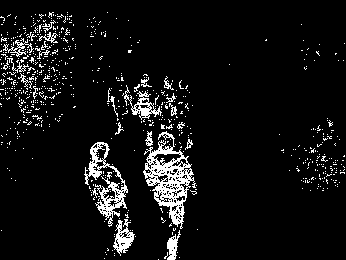person: (76, 139, 143, 252), (149, 134, 191, 260), (107, 70, 133, 136), (138, 71, 155, 133), (178, 75, 193, 133), (161, 73, 175, 133)
